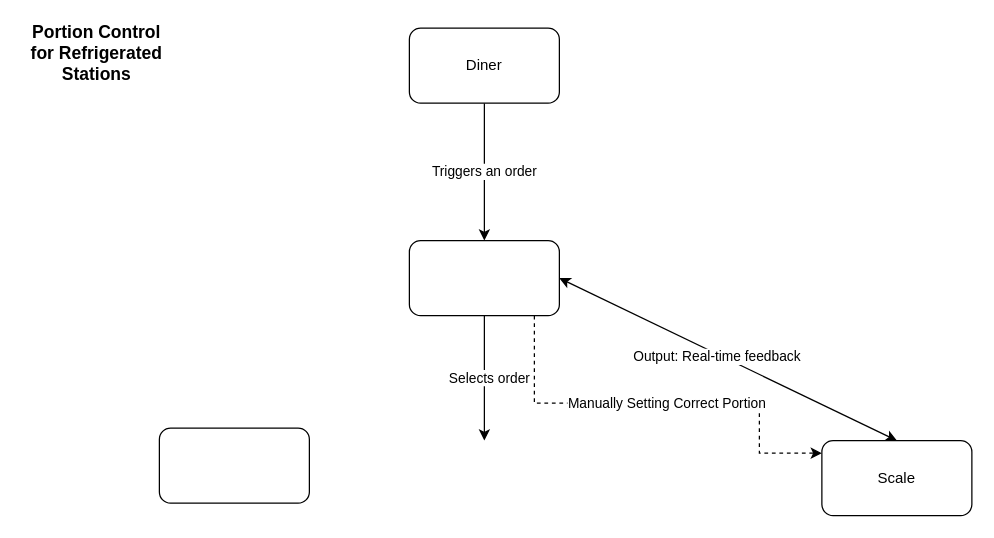
The diagram is 994 pixels wide and 538 high, and some of its shapes have lost their labels. The shapes that lost their labels are listed below. From the top down, each one's box as (x1, y1, x2, y2) in pixels, then its label:
(408, 239, 559, 316): Employee
(158, 427, 309, 503): Owner
